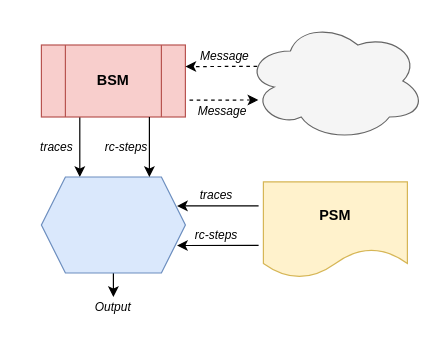
Some shapes in this 446 by 346 pixel diagram are drawn without their labels. Each missing label, with the centre of its shape:
"ENV" belongs at [334,80].
"SRA" belongs at [112,224].
